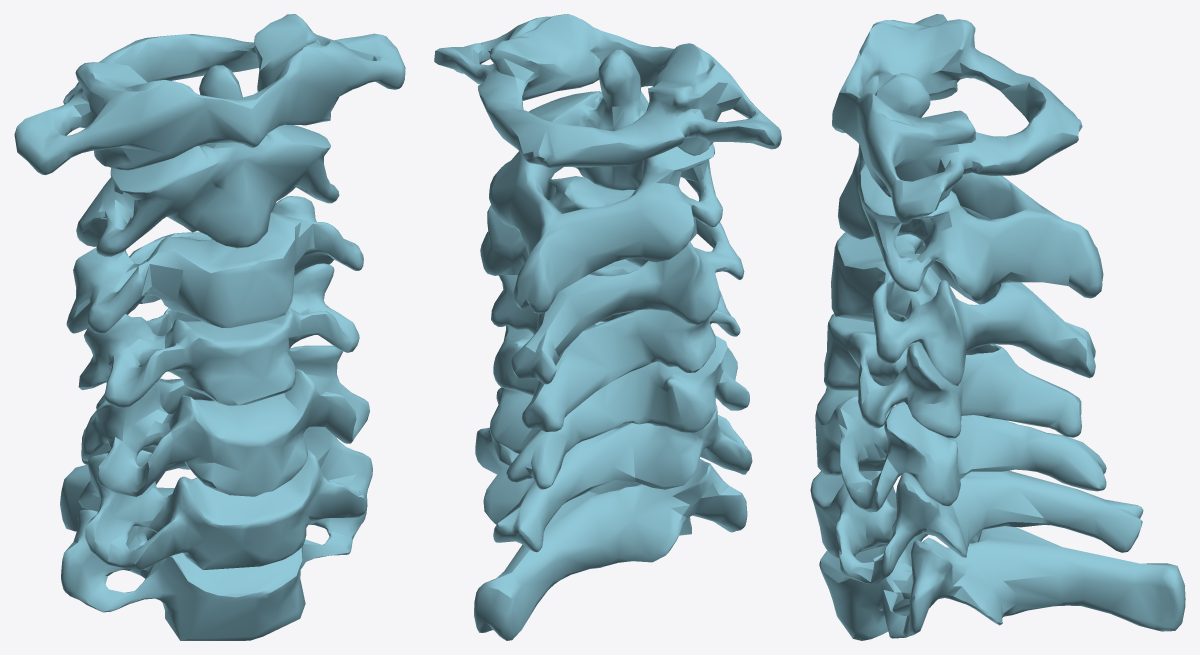
The model's file is cervical.glb.
3 renders of one model, left to right at view 1: azimuth 30°, elevation 25°; view 2: azimuth 150°, elevation 25°; view 3: azimuth 270°, elevation 25°, orthographic. The views are drawn at different scales.
Parts seen in each view (by area): view 1: grp1 (×7); view 2: grp1 (×7); view 3: grp1 (×7).
Boxes of the visible parts, x1,y1,x2,y2 form: grp1 (×7): [14, 14, 405, 640]; grp1 (×7): [434, 14, 781, 640]; grp1 (×7): [810, 14, 1185, 640].
Size of the model in its own units: 0.0816 by 0.1167 by 0.0704.
